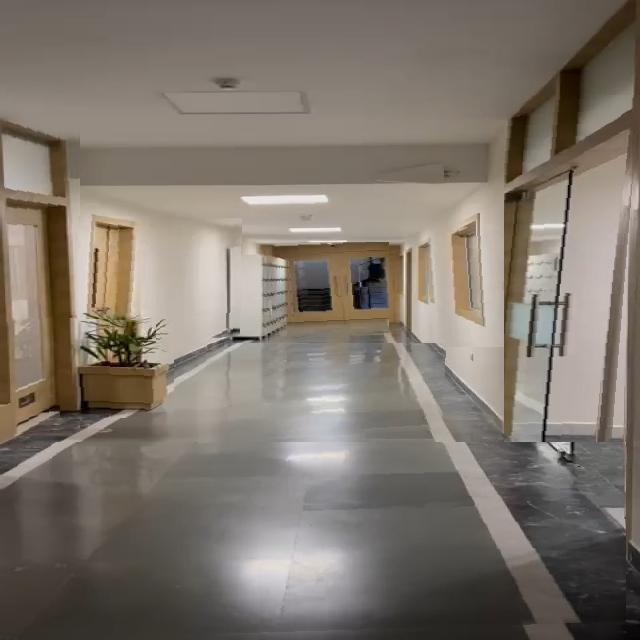door: (504, 95, 640, 470), (0, 119, 80, 435), (286, 242, 389, 337), (78, 216, 151, 324)
floor: (0, 442, 626, 640), (198, 343, 447, 444)
furniture: (59, 318, 174, 418)
wall: (424, 224, 516, 348), (156, 218, 242, 344)
